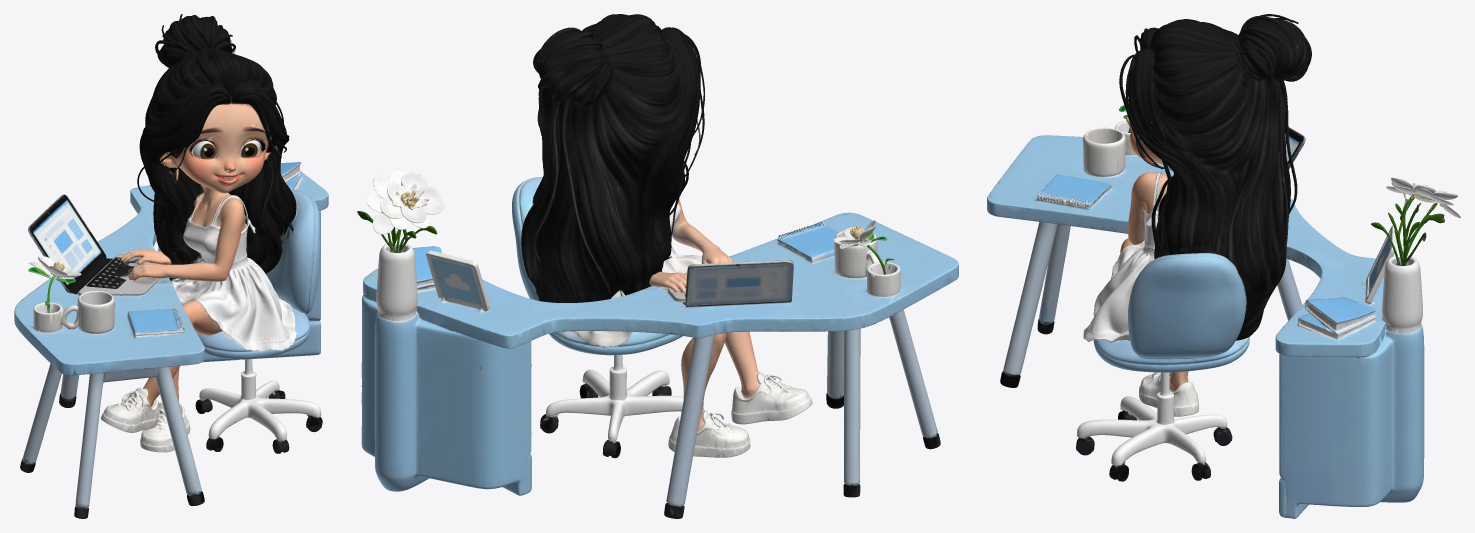
Rendered from chibi-blue-desk.glb.
The picture shows the model from 3 angles, left to right: view 1: azimuth 30°, elevation 25°; view 2: azimuth 150°, elevation 25°; view 3: azimuth 270°, elevation 25°; orthographic projection. The views are drawn at different scales.
Visible parts, largest first — view 1: Mesh_0.002; view 2: Mesh_0.002; view 3: Mesh_0.002.
Boxes of the visible parts, bbox=[...] form: Mesh_0.002: bbox=[14, 14, 328, 518]; Mesh_0.002: bbox=[357, 14, 958, 518]; Mesh_0.002: bbox=[987, 14, 1460, 518].
Size of the model in its own units: 1.72 by 1.65 by 1.64.
Materials: 1 (1 with a texture image).
